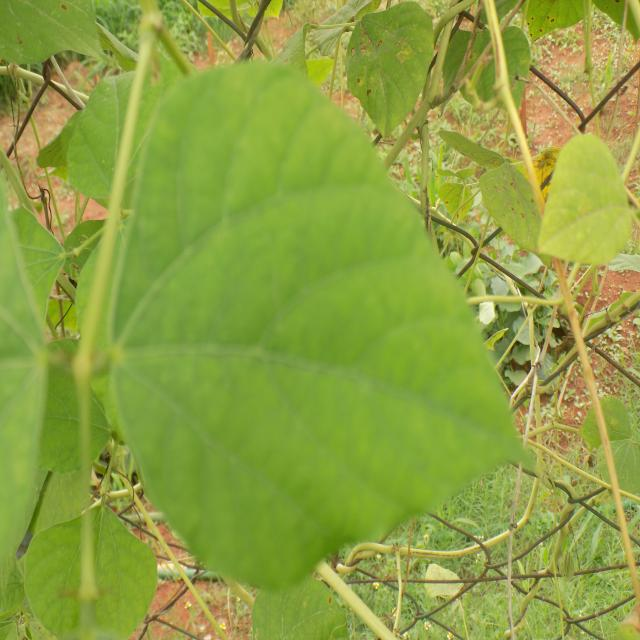Dolicos bean_cercospora leaf spot: (338, 2, 434, 139), (452, 138, 545, 271)
Dolicos bean_healthy: (103, 62, 532, 588), (13, 502, 158, 640), (62, 61, 191, 212), (22, 337, 122, 483)
